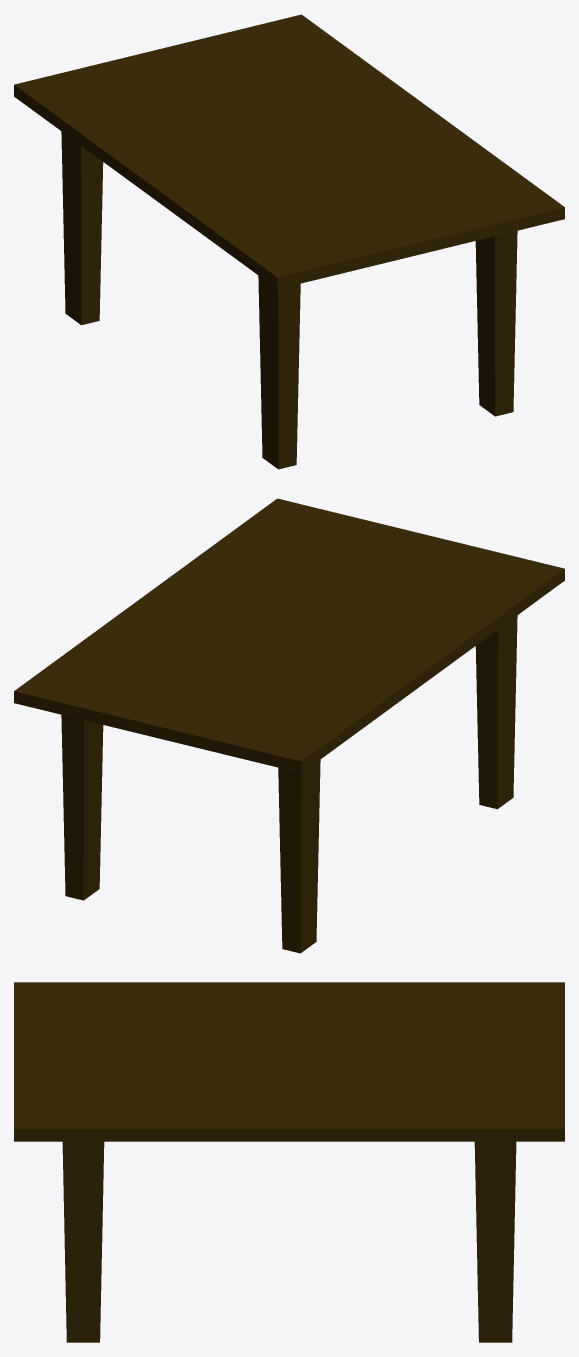
The model's file is placeholder_copy.glb.
The picture shows the model from 3 angles, top to bottom: view 1: azimuth 30°, elevation 25°; view 2: azimuth 150°, elevation 25°; view 3: azimuth 270°, elevation 25°; orthographic projection. The views are drawn at different scales.
Parts seen in each view (by area): view 1: Cube.003; view 2: Cube.003; view 3: Cube.003.
Part boxes in pixels (x1,y1,x2,y2): Cube.003: (14,14,564,469); Cube.003: (14,498,564,953); Cube.003: (14,982,564,1342).
Size of the model in its own units: 1.62 by 1.17 by 2.57.
